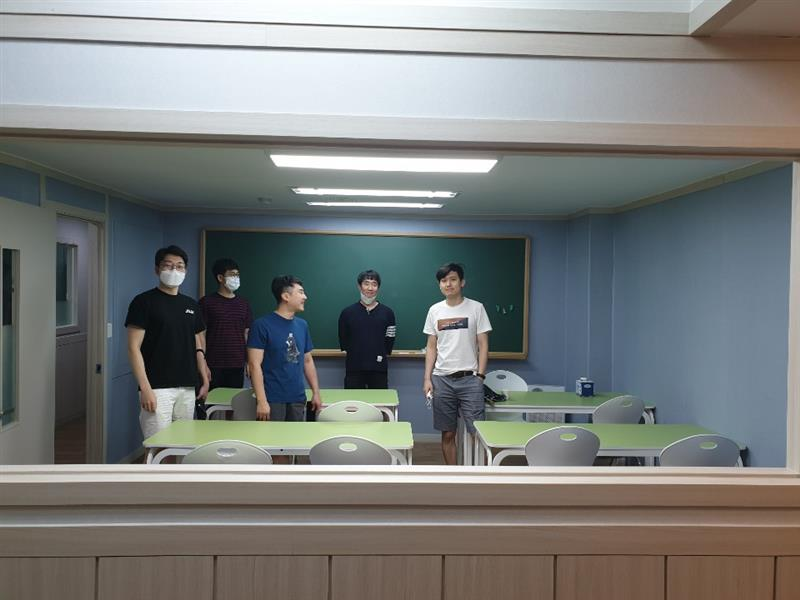mask: (159, 253, 188, 290), (222, 265, 241, 296)
nomask: (287, 283, 309, 315), (438, 272, 462, 298), (357, 280, 380, 299)
